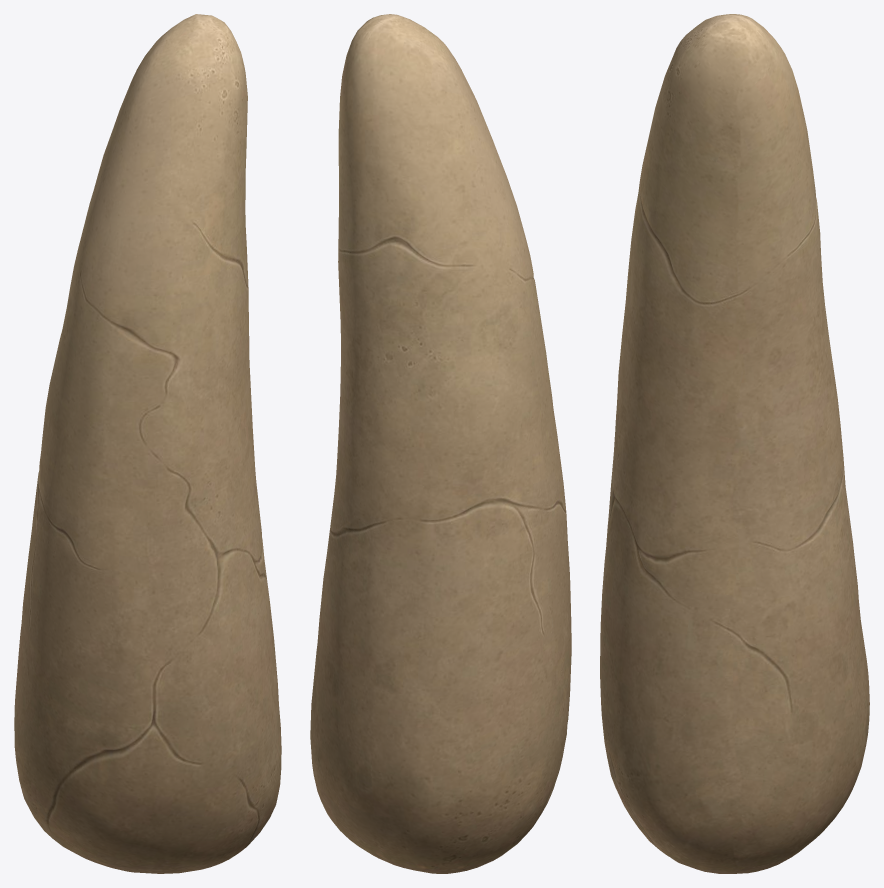
File: tb_bone_01a.glb
The picture shows the model from 3 angles, left to right: view 1: azimuth 30°, elevation 25°; view 2: azimuth 150°, elevation 25°; view 3: azimuth 270°, elevation 25°; orthographic projection. The views are drawn at different scales.
Parts seen in each view (by area): view 1: tb_bone_01a; view 2: tb_bone_01a; view 3: tb_bone_01a.
Part boxes in pixels (box(x1,y1,x2,y2)): tb_bone_01a: box(14, 14, 281, 873); tb_bone_01a: box(310, 14, 571, 873); tb_bone_01a: box(600, 14, 869, 873).
Bounding box in the file's own units: 1.4 × 4.8 × 1.36.
1 material, 1 textured.
